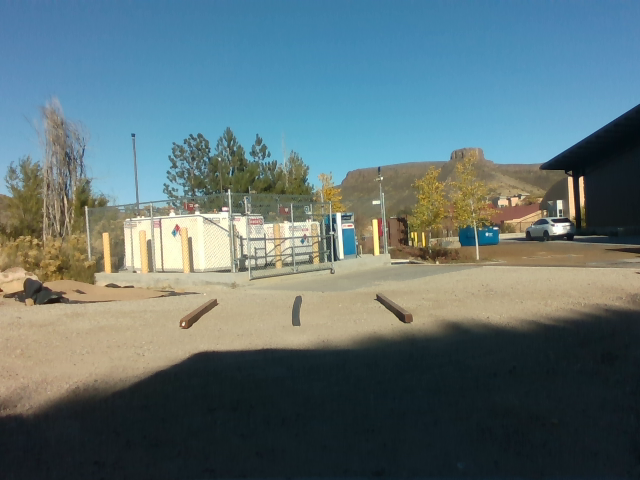Dunnage: (176, 279, 421, 338)
